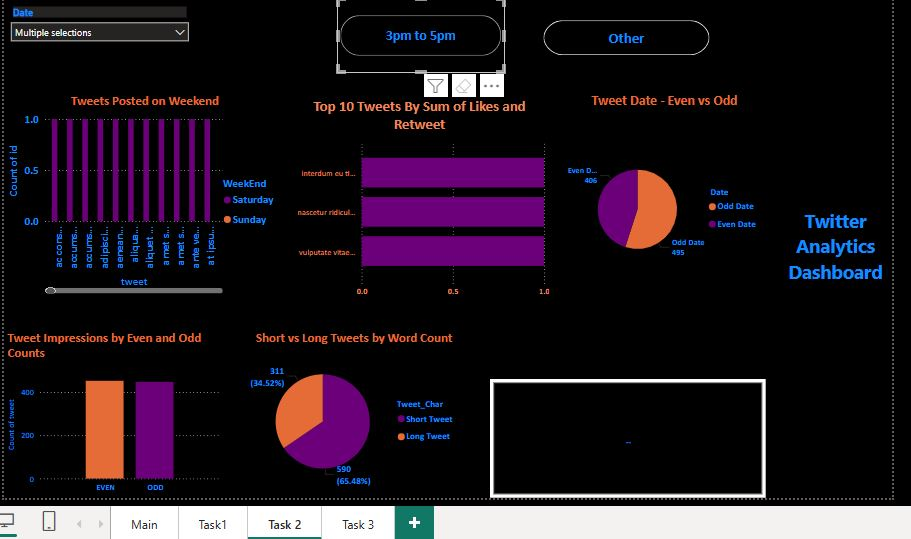

Layout of this report page (visuals, bound fields, positions):
{"tool":"powerbi","page":{"name":"Task 2","canvas":[1280,720],"ordinal":2},"visuals":[{"type":"slicer","fields":{"Values":["SocialMedia (1).date"]},"box":[0,7.2,276.5,83.5],"z":0},{"type":"textbox","box":[1114.6,25.9,165.6,694.1],"z":1000},{"type":"barChart","title":"Top 10 Tweets By Sum of Likes and Retweet","fields":{"Category":["SocialMedia (1).tweet"],"Y":["Count(SocialMedia (1).Total Engagement)"]},"box":[406.1,142.6,384.5,295.2],"z":2000},{"type":"clusteredColumnChart","title":"Tweets Posted on Weekend","fields":{"Series":["SocialMedia (1).WeekEnd"],"Category":["SocialMedia (1).tweet"],"Y":["CountNonNull(SocialMedia (1).User Id)"]},"box":[0,135.4,406.1,295.2],"z":3000},{"type":"pieChart","title":"Tweet Date  - Even vs Odd","fields":{"Category":["SocialMedia (1).Odddate"],"Y":["CountNonNull(SocialMedia (1).id)"]},"box":[805,135.4,292.3,313.9],"z":4000},{"type":"clusteredColumnChart","title":"Tweet Impressions by Even and Odd Counts","fields":{"Category":["SocialMedia (1).Even_Impression"],"Y":["CountNonNull(SocialMedia (1).tweet)"]},"box":[0,476.6,316.8,243.4],"z":5000},{"type":"pieChart","title":"Short vs Long Tweets by Word Count","fields":{"Category":["SocialMedia (1).Tweet_Char"],"Y":["CountNonNull(SocialMedia (1).tweet)"]},"box":[347,476.6,313.9,243.4],"z":6000},{"type":"advancedSlicerVisual","fields":{"Values":["SocialMedia (1).TimeAllowed-2"]},"box":[479.5,0,241.9,108],"z":7000},{"type":"advancedSlicerVisual","fields":{"Values":["SocialMedia (1).TimeAllowed-2"]},"box":[771.8,7.2,249.1,100.8],"z":8000},{"type":"cardVisual","fields":{"Data":["SocialMedia (1).TimeBasedMessage2"]},"box":[699.8,548.6,397.4,171.4],"z":9000}]}

Visuals, with their boxes on the page's 1280x720 design canvas (x1, y1, x2, y2). These are canvas units, not pixel positions in the 911x539 screenshot, which may show the page scaled, cropped or inside an application window:
slicer - SocialMedia (1).date: {"x1": 0, "y1": 7, "x2": 276, "y2": 91}
textbox: {"x1": 1115, "y1": 26, "x2": 1280, "y2": 720}
"Top 10 Tweets By Sum of Likes and Retweet" barChart: {"x1": 406, "y1": 143, "x2": 791, "y2": 438}
"Tweets Posted on Weekend" clusteredColumnChart: {"x1": 0, "y1": 135, "x2": 406, "y2": 431}
"Tweet Date  - Even vs Odd" pieChart: {"x1": 805, "y1": 135, "x2": 1097, "y2": 449}
"Tweet Impressions by Even and Odd Counts" clusteredColumnChart: {"x1": 0, "y1": 477, "x2": 317, "y2": 720}
"Short vs Long Tweets by Word Count" pieChart: {"x1": 347, "y1": 477, "x2": 661, "y2": 720}
advancedSlicerVisual - SocialMedia (1).TimeAllowed-2: {"x1": 480, "y1": 0, "x2": 721, "y2": 108}
advancedSlicerVisual - SocialMedia (1).TimeAllowed-2: {"x1": 772, "y1": 7, "x2": 1021, "y2": 108}
cardVisual - SocialMedia (1).TimeBasedMessage2: {"x1": 700, "y1": 549, "x2": 1097, "y2": 720}
